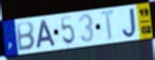3: (78, 12, 95, 45)
5: (59, 15, 77, 46)
A: (35, 19, 57, 50)
B: (15, 20, 36, 52)
J: (121, 7, 138, 40)
T: (99, 8, 118, 42)
